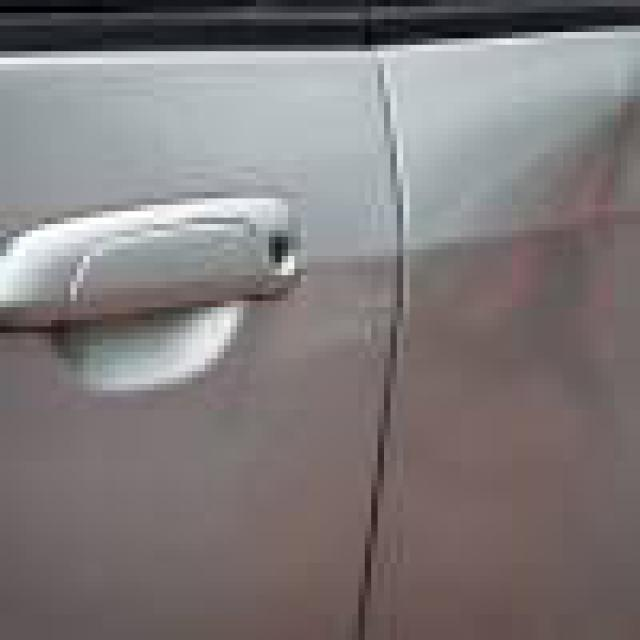doorouter-dent: (205, 45, 634, 634)
